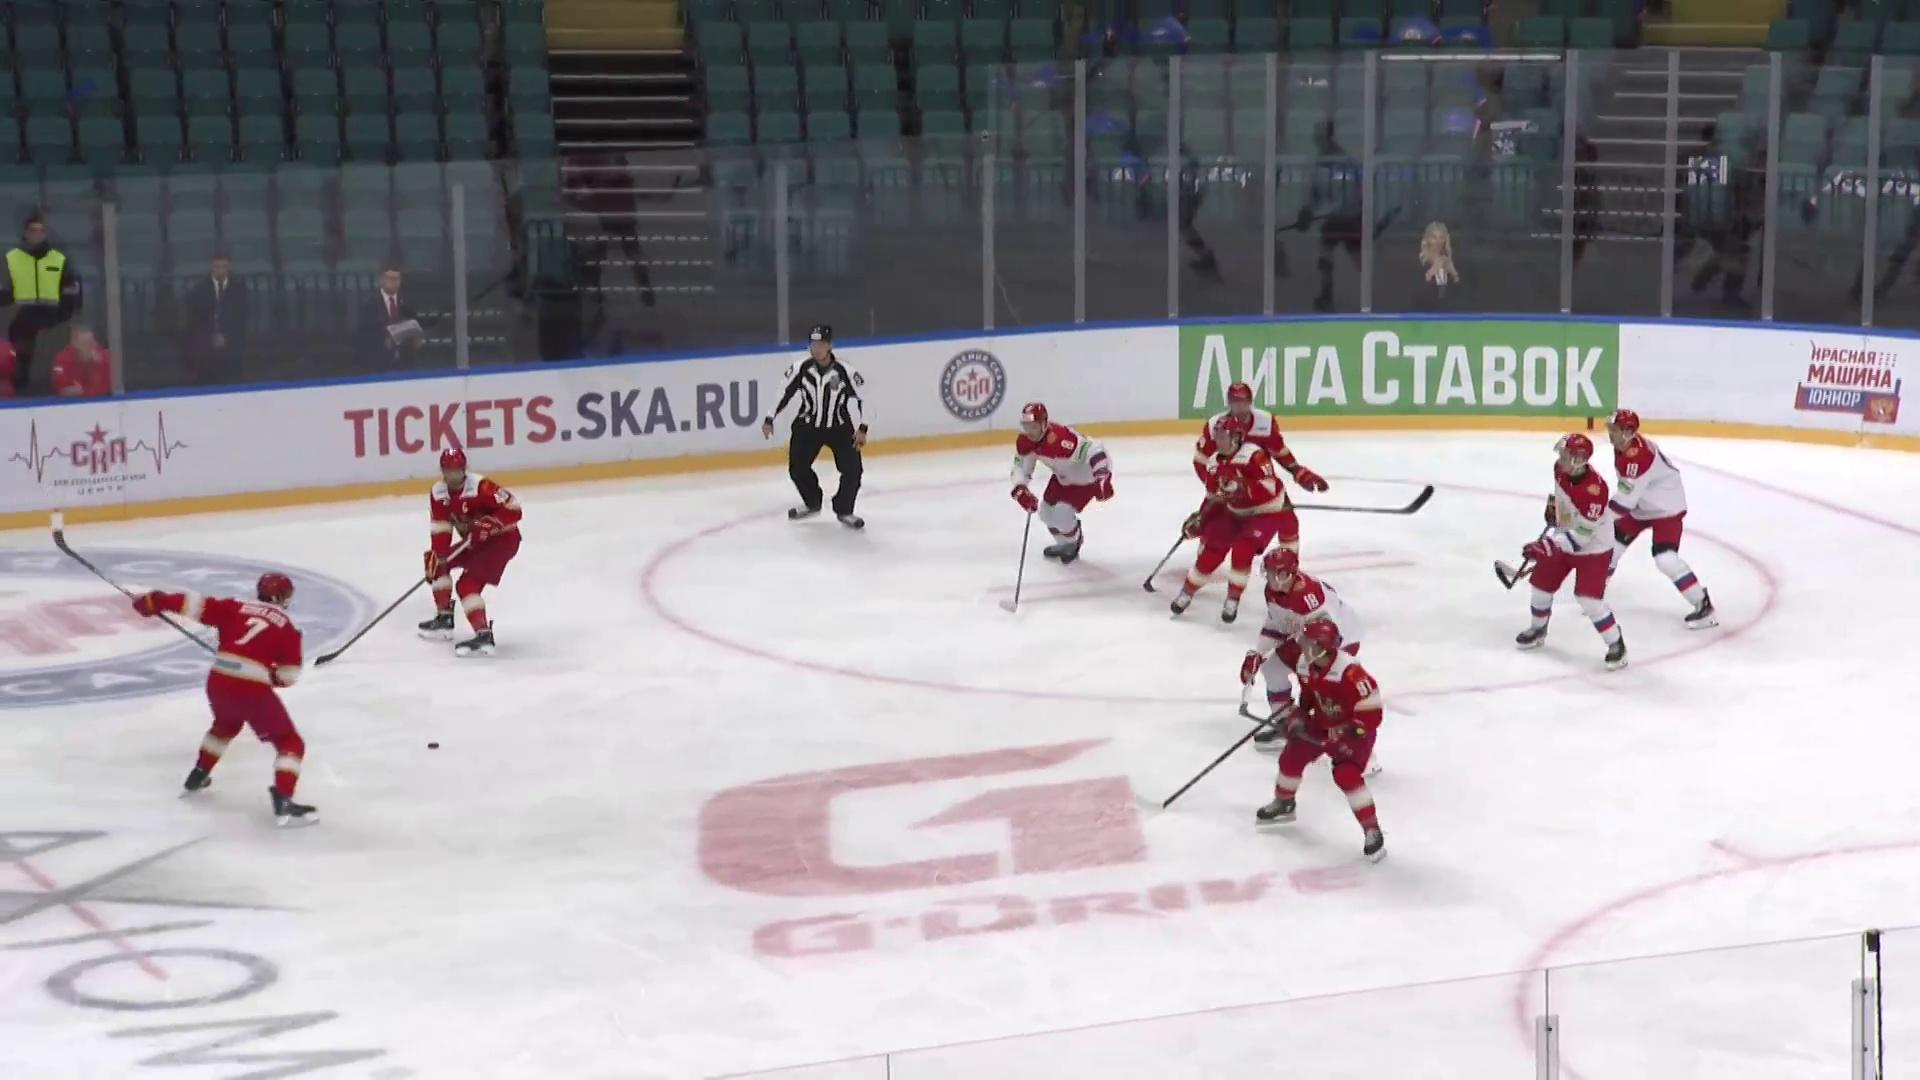ball: (423, 740, 444, 752)
